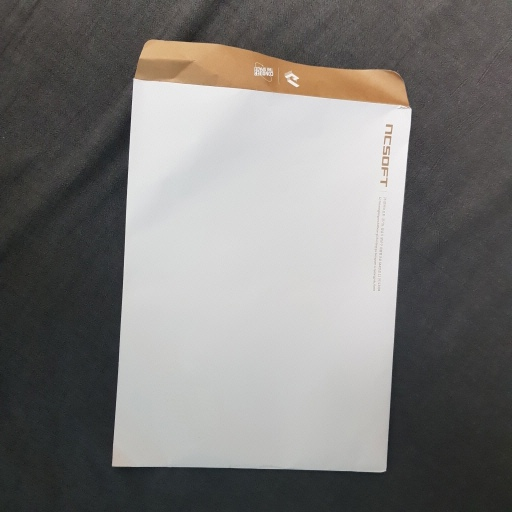Paper_2: (102, 35, 417, 479)
